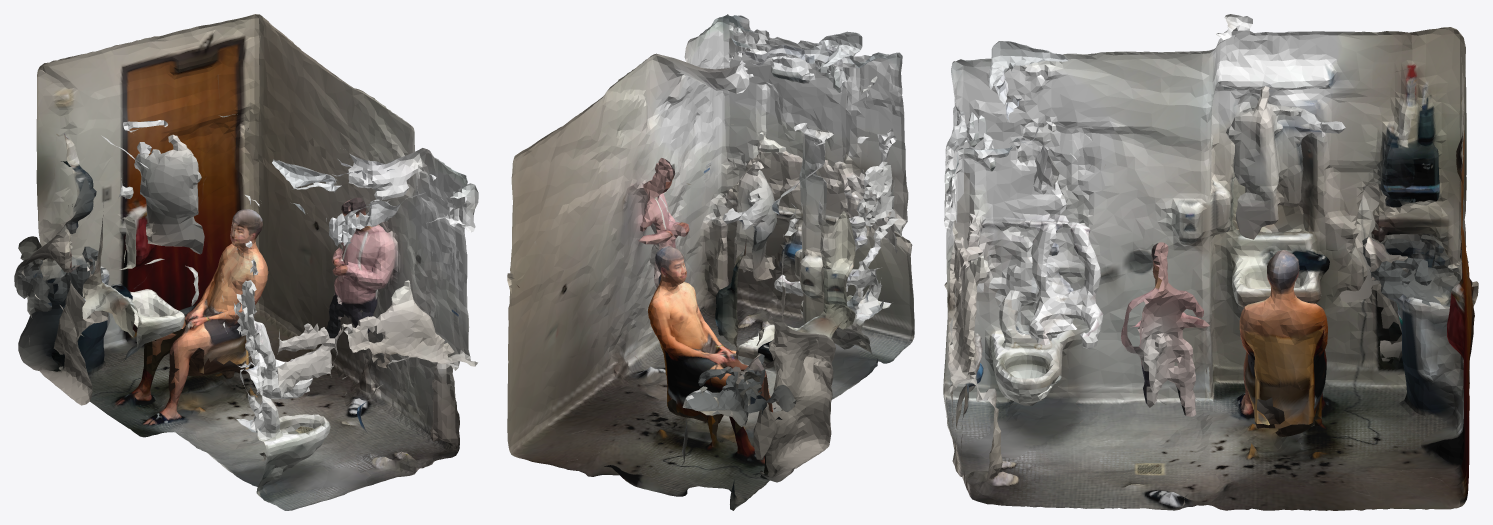
Rendered from room.glb.
The picture shows the model from 3 angles, left to right: view 1: azimuth 30°, elevation 25°; view 2: azimuth 150°, elevation 25°; view 3: azimuth 270°, elevation 25°; orthographic projection. The views are drawn at different scales.
Bounding box in the file's own units: 2.28 × 2.6 × 3.24.
Materials: 1 (1 with a texture image).
